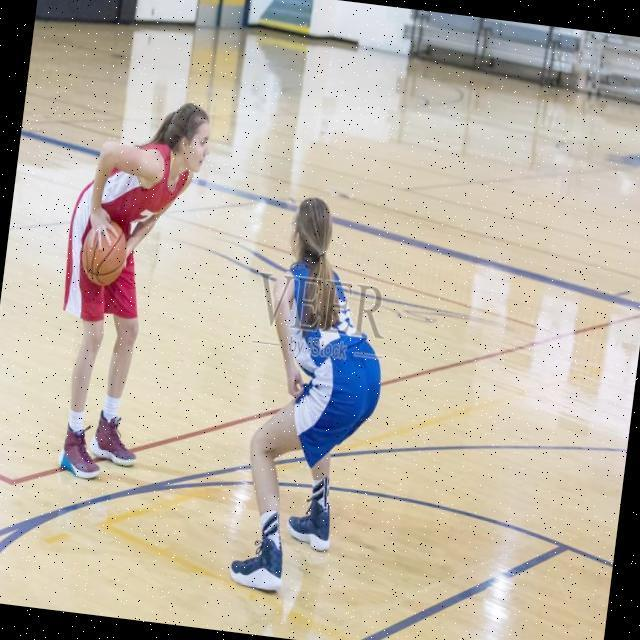ball: (78, 216, 128, 286)
